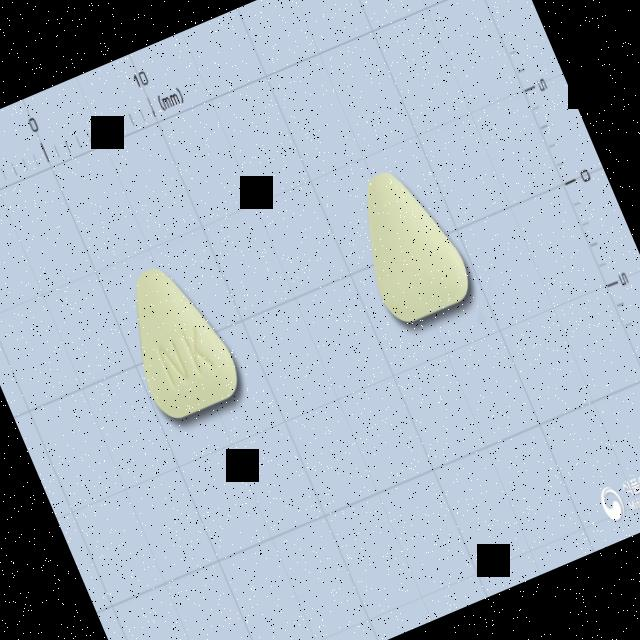Aris: (100, 242, 256, 438)
